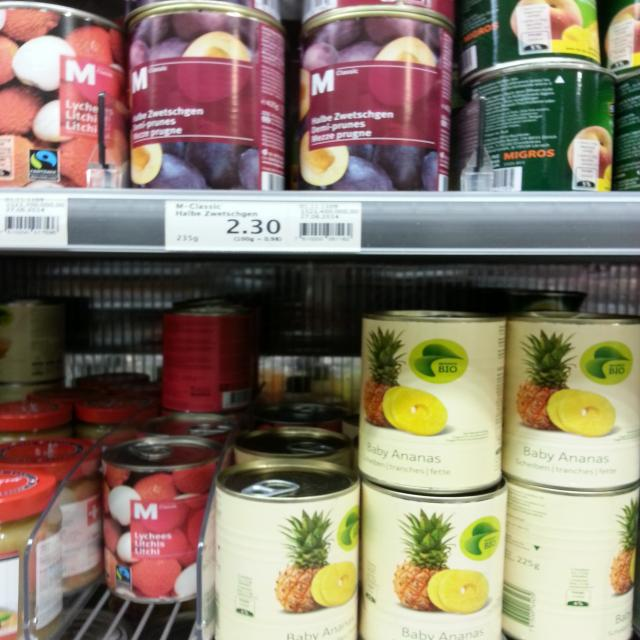Canned: (118, 2, 299, 190), (290, 12, 458, 192), (346, 312, 502, 498), (205, 460, 362, 640), (498, 314, 640, 496), (358, 476, 510, 640), (0, 0, 130, 191), (502, 473, 640, 640), (458, 57, 620, 196), (100, 432, 216, 609), (154, 302, 258, 420)
